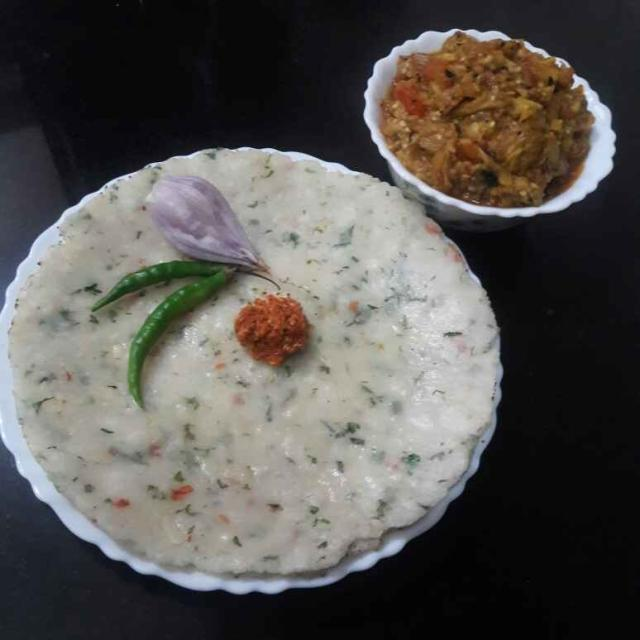RICE BHAKRI: (1, 149, 503, 582)
